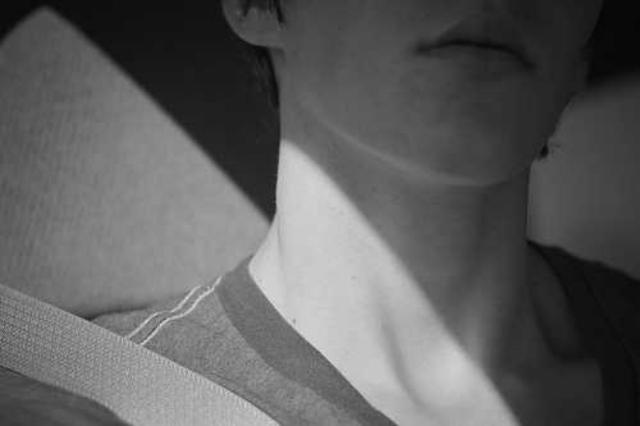Seatbelt: (0, 282, 284, 426)
